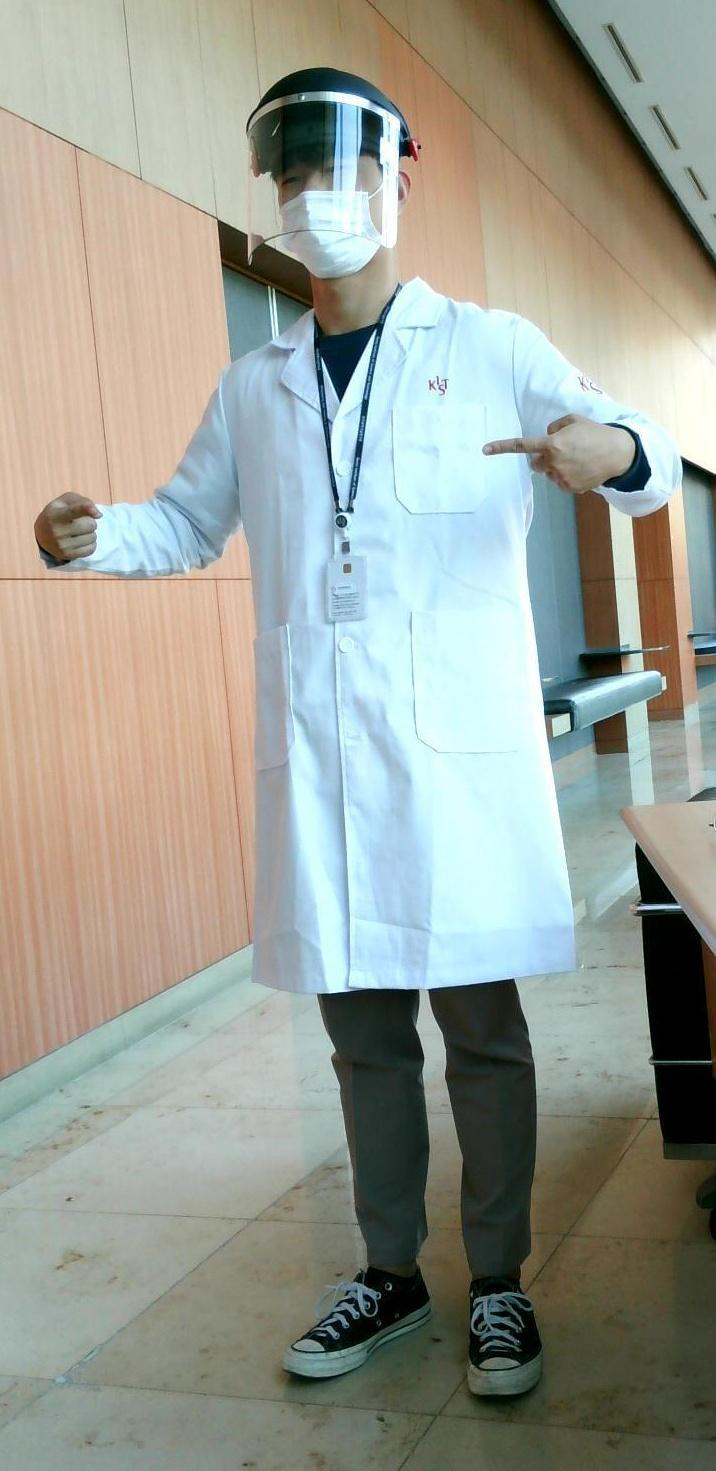lab_coat: (214, 324, 514, 990)
